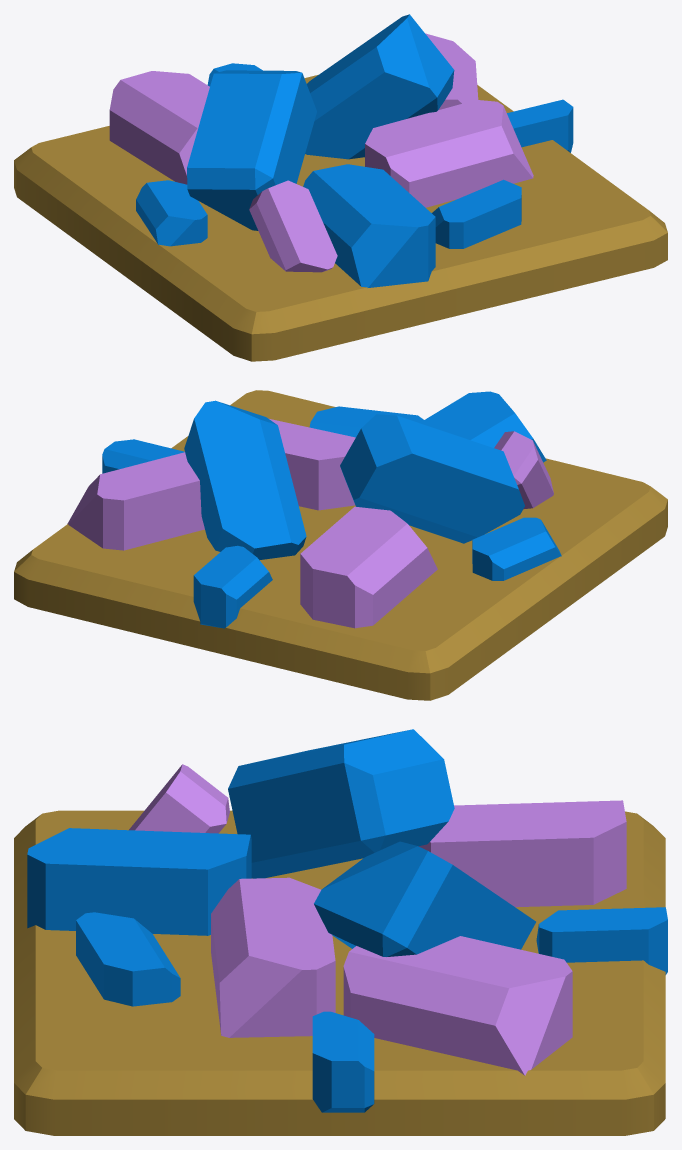
File: ChocolateBarkPortion.fbx
The picture shows the model from 3 angles, top to bottom: view 1: azimuth 30°, elevation 25°; view 2: azimuth 150°, elevation 25°; view 3: azimuth 270°, elevation 25°; orthographic projection. The views are drawn at different scales.
Parts seen in each view (by area): view 1: Roasted Nuts.006, Portion.010; view 2: Roasted Nuts.006, Portion.010; view 3: Roasted Nuts.006, Portion.010.
Part boxes in pixels (bbox=[...]): Roasted Nuts.006: bbox=[109, 14, 573, 287]; Portion.010: bbox=[14, 75, 667, 361]; Roasted Nuts.006: bbox=[67, 391, 561, 628]; Portion.010: bbox=[14, 390, 667, 700]; Roasted Nuts.006: bbox=[27, 729, 667, 1112]; Portion.010: bbox=[14, 810, 665, 1135].
Bounding box in the file's own units: 25.53 × 8.91 × 24.58.
